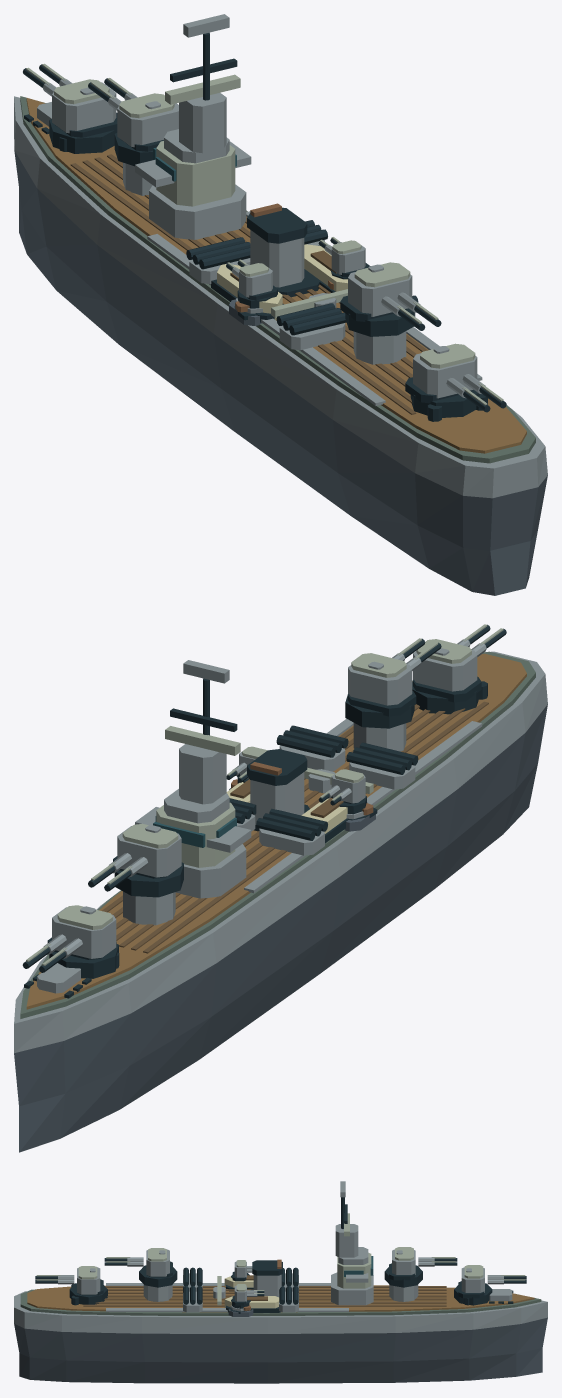
File: historic-prinz-eugen.glb
3 views of the same model, one above another, from view 1: azimuth 30°, elevation 25°; view 2: azimuth 150°, elevation 25°; view 3: azimuth 270°, elevation 25° (orthographic). The views are drawn at different scales.
Visible parts, largest first — view 1: historic-prinz-eugen-historic-prinz-eugen-geometry, historic-prinz-eugen-part_bridge.035-geometry, historic-prinz-eugen-turret_main_2.023-geometry, historic-prinz-eugen-turret_main_3.012-geometry, historic-prinz-eugen-turret_main_0.025-geometry, historic-prinz-eugen-historic_funnel_0.036-geometry, historic-prinz-eugen-turret_main_1.024-geometry, historic-prinz-eugen-torpedo_bank_0.006-geometry, historic-prinz-eugen-torpedo_bank_2.002-geometry, historic-prinz-eugen-turret_aa_aa-port.037-geometry, historic-prinz-eugen-turret_aa_aa-starboard.035-geometry, historic-prinz-eugen-historic_catapult_0.009-geometry; view 2: historic-prinz-eugen-historic-prinz-eugen-geometry, historic-prinz-eugen-part_bridge.035-geometry, historic-prinz-eugen-turret_main_2.023-geometry, historic-prinz-eugen-turret_main_1.024-geometry, historic-prinz-eugen-turret_main_3.012-geometry, historic-prinz-eugen-turret_main_0.025-geometry, historic-prinz-eugen-historic_funnel_0.036-geometry, historic-prinz-eugen-torpedo_bank_2.002-geometry, historic-prinz-eugen-torpedo_bank_0.006-geometry, historic-prinz-eugen-torpedo_bank_1.005-geometry, historic-prinz-eugen-turret_aa_aa-port.037-geometry, historic-prinz-eugen-historic_catapult_0.009-geometry; view 3: historic-prinz-eugen-historic-prinz-eugen-geometry, historic-prinz-eugen-part_bridge.035-geometry, historic-prinz-eugen-turret_main_1.024-geometry, historic-prinz-eugen-turret_main_2.023-geometry, historic-prinz-eugen-turret_main_0.025-geometry, historic-prinz-eugen-turret_main_3.012-geometry, historic-prinz-eugen-historic_funnel_0.036-geometry, historic-prinz-eugen-torpedo_bank_1.005-geometry, historic-prinz-eugen-torpedo_bank_3.001-geometry, historic-prinz-eugen-turret_aa_aa-starboard.035-geometry, historic-prinz-eugen-torpedo_bank_0.006-geometry, historic-prinz-eugen-turret_aa_aa-port.037-geometry (+1 smaller).
Boxes of the visible parts, x1,y1,x2,y2 form: historic-prinz-eugen-historic-prinz-eugen-geometry: [14, 96, 547, 595]; historic-prinz-eugen-part_bridge.035-geometry: [135, 14, 251, 239]; historic-prinz-eugen-turret_main_2.023-geometry: [340, 262, 441, 336]; historic-prinz-eugen-turret_main_3.012-geometry: [405, 343, 506, 417]; historic-prinz-eugen-turret_main_0.025-geometry: [23, 63, 117, 153]; historic-prinz-eugen-historic_funnel_0.036-geometry: [247, 203, 320, 297]; historic-prinz-eugen-turret_main_1.024-geometry: [88, 78, 178, 166]; historic-prinz-eugen-torpedo_bank_0.006-geometry: [276, 303, 346, 350]; historic-prinz-eugen-torpedo_bank_2.002-geometry: [186, 237, 250, 284]; historic-prinz-eugen-turret_aa_aa-port.037-geometry: [226, 259, 277, 308]; historic-prinz-eugen-turret_aa_aa-starboard.035-geometry: [318, 237, 370, 279]; historic-prinz-eugen-historic_catapult_0.009-geometry: [271, 289, 347, 317]; historic-prinz-eugen-historic-prinz-eugen-geometry: [14, 651, 547, 1152]; historic-prinz-eugen-part_bridge.035-geometry: [135, 660, 251, 898]; historic-prinz-eugen-turret_main_2.023-geometry: [345, 638, 441, 728]; historic-prinz-eugen-turret_main_1.024-geometry: [88, 823, 183, 897]; historic-prinz-eugen-turret_main_3.012-geometry: [412, 624, 506, 714]; historic-prinz-eugen-turret_main_0.025-geometry: [22, 905, 118, 978]; historic-prinz-eugen-historic_funnel_0.036-geometry: [247, 749, 309, 831]; historic-prinz-eugen-torpedo_bank_2.002-geometry: [256, 808, 327, 855]; historic-prinz-eugen-torpedo_bank_0.006-geometry: [346, 742, 418, 789]; historic-prinz-eugen-torpedo_bank_1.005-geometry: [276, 725, 348, 771]; historic-prinz-eugen-turret_aa_aa-port.037-geometry: [318, 769, 366, 814]; historic-prinz-eugen-historic_catapult_0.009-geometry: [304, 767, 373, 793]; historic-prinz-eugen-historic-prinz-eugen-geometry: [14, 1275, 547, 1383]; historic-prinz-eugen-part_bridge.035-geometry: [331, 1181, 373, 1305]; historic-prinz-eugen-turret_main_1.024-geometry: [384, 1247, 457, 1287]; historic-prinz-eugen-turret_main_2.023-geometry: [104, 1248, 177, 1287]; historic-prinz-eugen-turret_main_0.025-geometry: [454, 1265, 526, 1305]; historic-prinz-eugen-turret_main_3.012-geometry: [35, 1266, 107, 1304]; historic-prinz-eugen-historic_funnel_0.036-geometry: [250, 1259, 282, 1297]; historic-prinz-eugen-torpedo_bank_1.005-geometry: [183, 1285, 202, 1312]; historic-prinz-eugen-torpedo_bank_3.001-geometry: [279, 1285, 298, 1312]; historic-prinz-eugen-turret_aa_aa-starboard.035-geometry: [231, 1284, 264, 1308]; historic-prinz-eugen-torpedo_bank_0.006-geometry: [183, 1267, 202, 1291]; historic-prinz-eugen-turret_aa_aa-port.037-geometry: [231, 1260, 252, 1281].
Bounding box in the file's own units: 0.6674 × 1.66 × 4.32.
